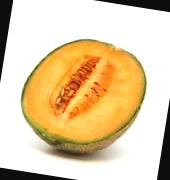Melon Ripe: (13, 28, 153, 164)
